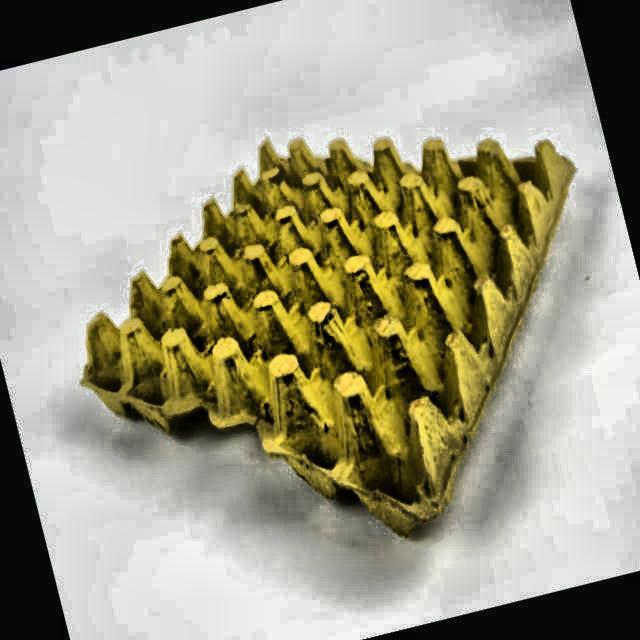cardboard: (79, 139, 576, 539)
